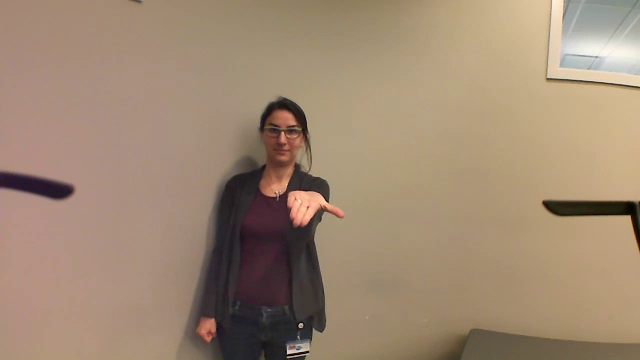land: (277, 183, 356, 238)
